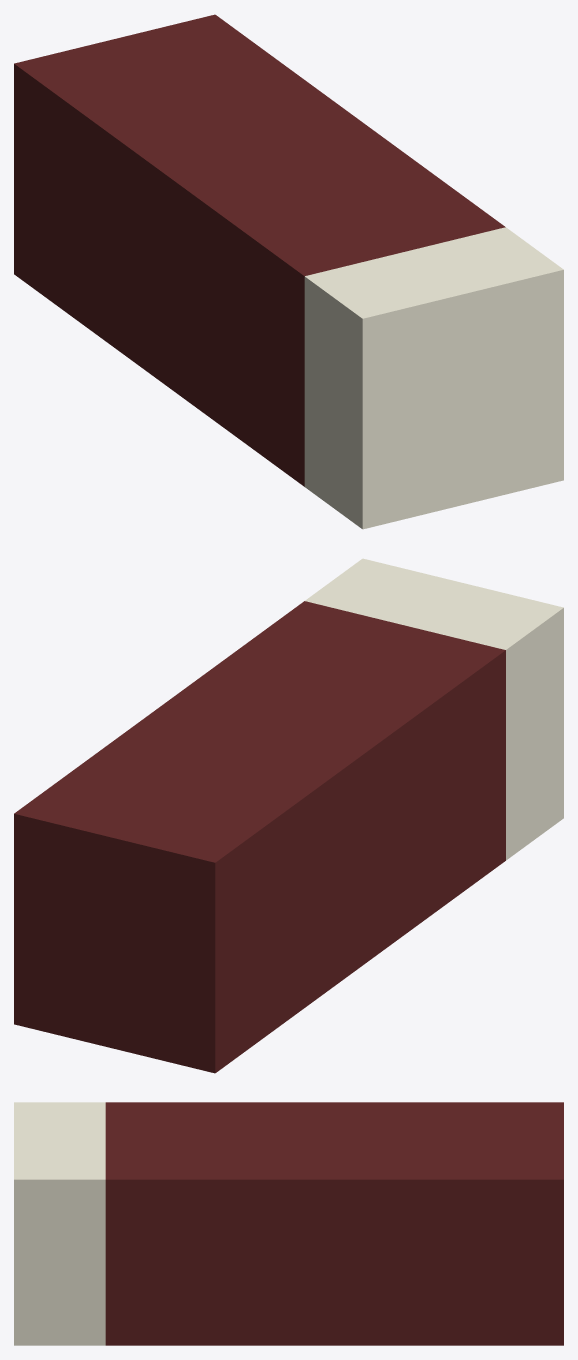
The model's file is character-67-arm_fore_lgt_med_2_sh_ja_du_color.obj.
3 views of the same model, one above another, from view 1: azimuth 30°, elevation 25°; view 2: azimuth 150°, elevation 25°; view 3: azimuth 270°, elevation 25° (orthographic). The views are drawn at different scales.
Visible parts, largest first — view 1: arm_fore_lgt_med_2_sh_ja_du_color; view 2: arm_fore_lgt_med_2_sh_ja_du_color; view 3: arm_fore_lgt_med_2_sh_ja_du_color.
Boxes of the visible parts, box(x1,y1,x2,y2) form: arm_fore_lgt_med_2_sh_ja_du_color: box(14, 14, 563, 529); arm_fore_lgt_med_2_sh_ja_du_color: box(14, 558, 563, 1073); arm_fore_lgt_med_2_sh_ja_du_color: box(14, 1102, 563, 1345).
Bounding box in the file's own units: 0.2 × 0.2 × 0.6.
Materials: 1 (1 with a texture image).
